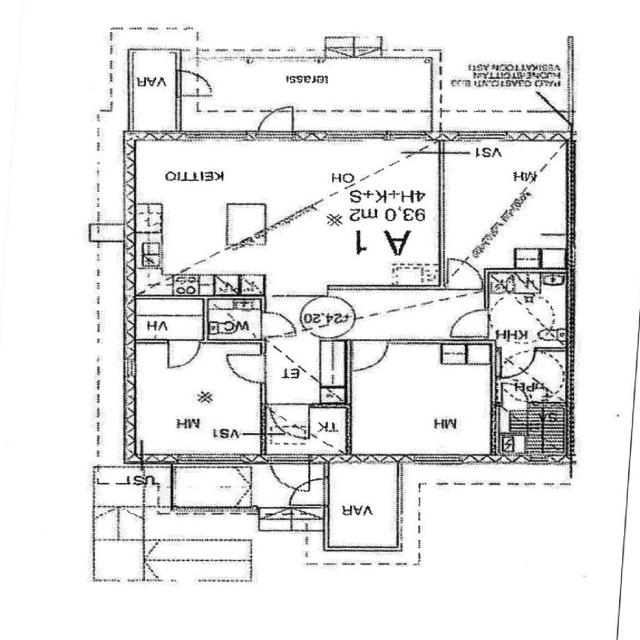door: (349, 338, 390, 374), (253, 104, 295, 138), (224, 352, 267, 385), (447, 307, 491, 339), (164, 339, 202, 371), (443, 258, 482, 288), (287, 478, 325, 507), (176, 70, 214, 98)
window: (108, 576, 136, 586)
zone: (130, 138, 442, 296), (441, 142, 570, 274), (348, 344, 493, 458), (128, 339, 264, 459), (325, 464, 399, 550), (487, 274, 569, 348), (496, 346, 568, 427), (262, 339, 345, 405), (499, 397, 569, 461), (264, 406, 349, 458), (129, 49, 178, 132), (170, 467, 253, 509), (130, 297, 206, 340), (205, 295, 264, 342), (91, 540, 144, 582), (266, 405, 310, 440), (447, 307, 491, 340), (443, 258, 483, 290)
